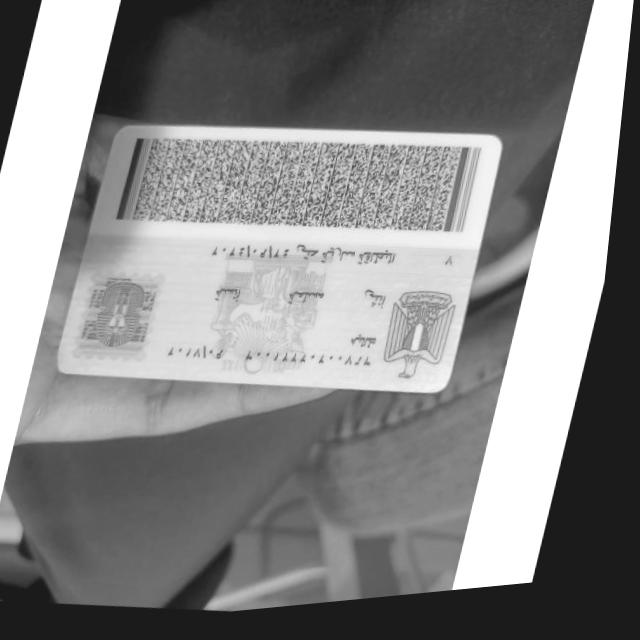back: (58, 126, 499, 392)
